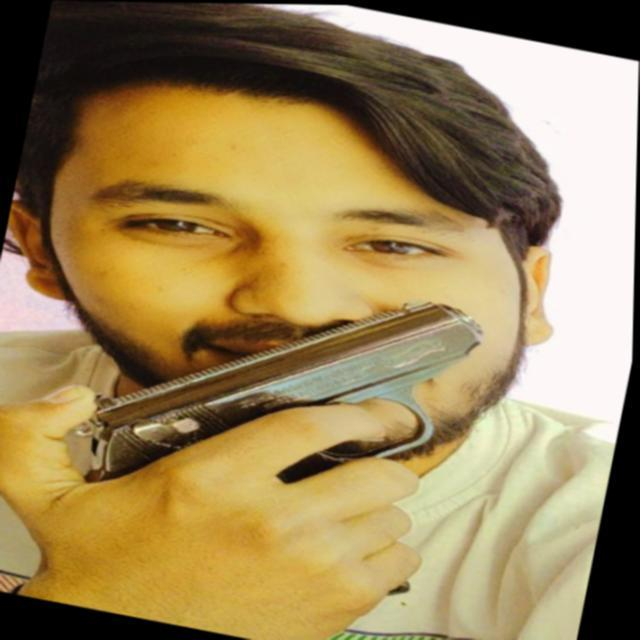weapon: (42, 232, 504, 602)
